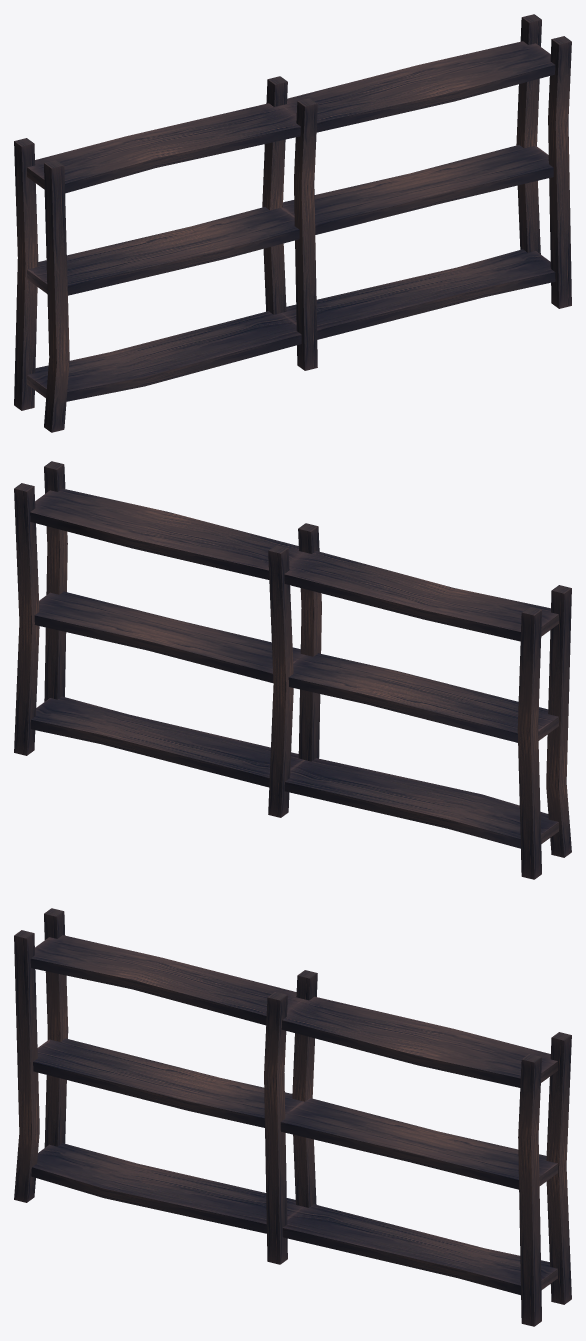
File: Shelf_C.fbx
The picture shows the model from 3 angles, top to bottom: view 1: azimuth 30°, elevation 25°; view 2: azimuth 150°, elevation 25°; view 3: azimuth 330°, elevation 25°; orthographic projection.
Visible parts, largest first — view 1: Shelf_C; view 2: Shelf_C; view 3: Shelf_C.
Boxes of the visible parts, box(x1,y1,x2,y2) form: Shelf_C: box(14, 14, 571, 432); Shelf_C: box(14, 461, 571, 879); Shelf_C: box(14, 908, 571, 1326).
Bounding box in the file's own units: 1.25 × 0.608 × 0.1629.
